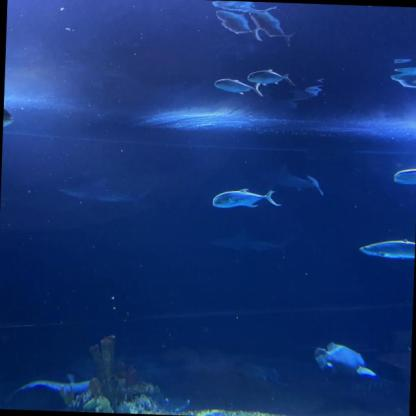fish: (312, 340, 377, 383), (210, 186, 278, 213), (210, 12, 270, 39), (357, 237, 415, 263), (249, 11, 295, 42), (212, 78, 262, 98), (207, 0, 266, 14), (391, 61, 415, 91), (248, 70, 292, 86), (390, 167, 416, 187), (3, 103, 17, 134)
shark: (50, 175, 150, 203), (253, 160, 325, 194), (209, 228, 294, 256)
